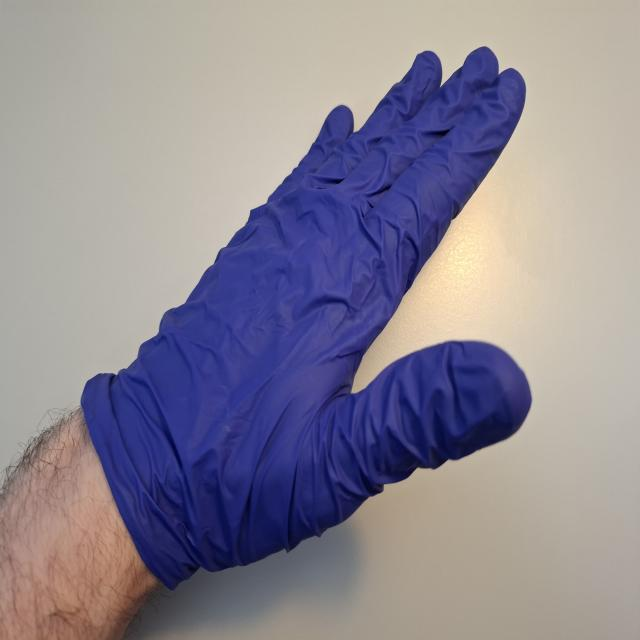glove_on: (76, 42, 536, 605)
